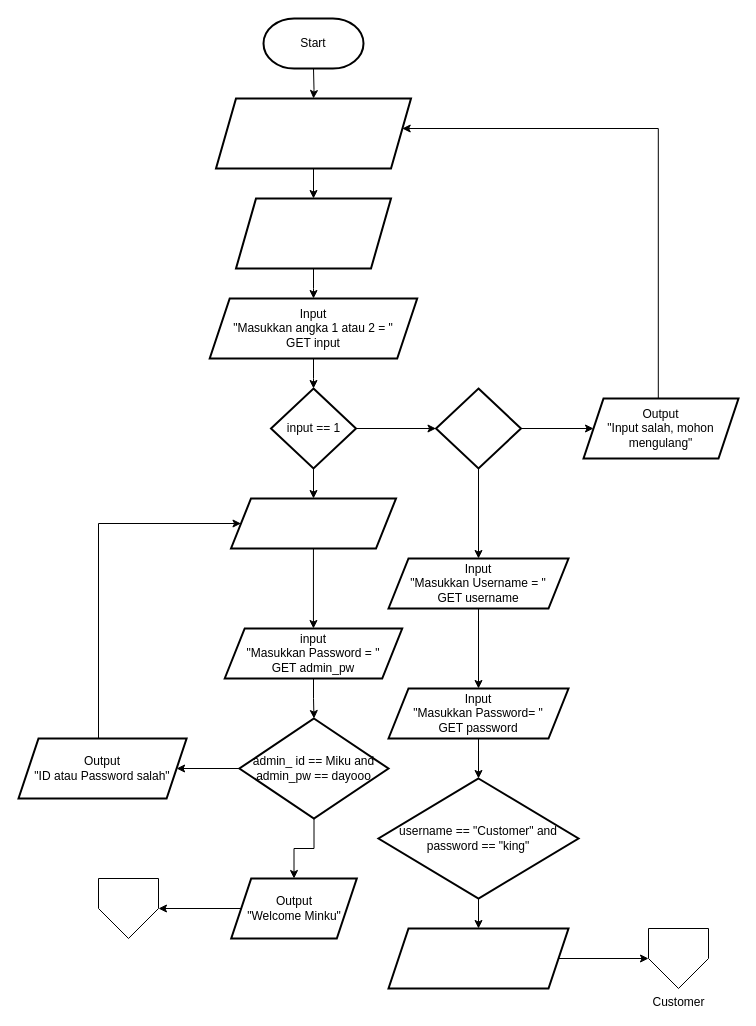
The diagram is 756 pixels wide and 1026 high, and some of its shapes have lost their labels. Each missing label, with the box of its shape:
Admin Only: (98, 878, 158, 938)
Input "Masukkan ID = " GET admin_id: (230, 497, 396, 549)
Input "Welcome to Myrfad Store": (387, 927, 569, 989)
input == 2: (434, 387, 522, 469)
Output "1. Admin 2. Customer": (234, 197, 392, 269)
Output "Selamat Datang, disini anda sebagai apa?": (214, 97, 412, 169)
